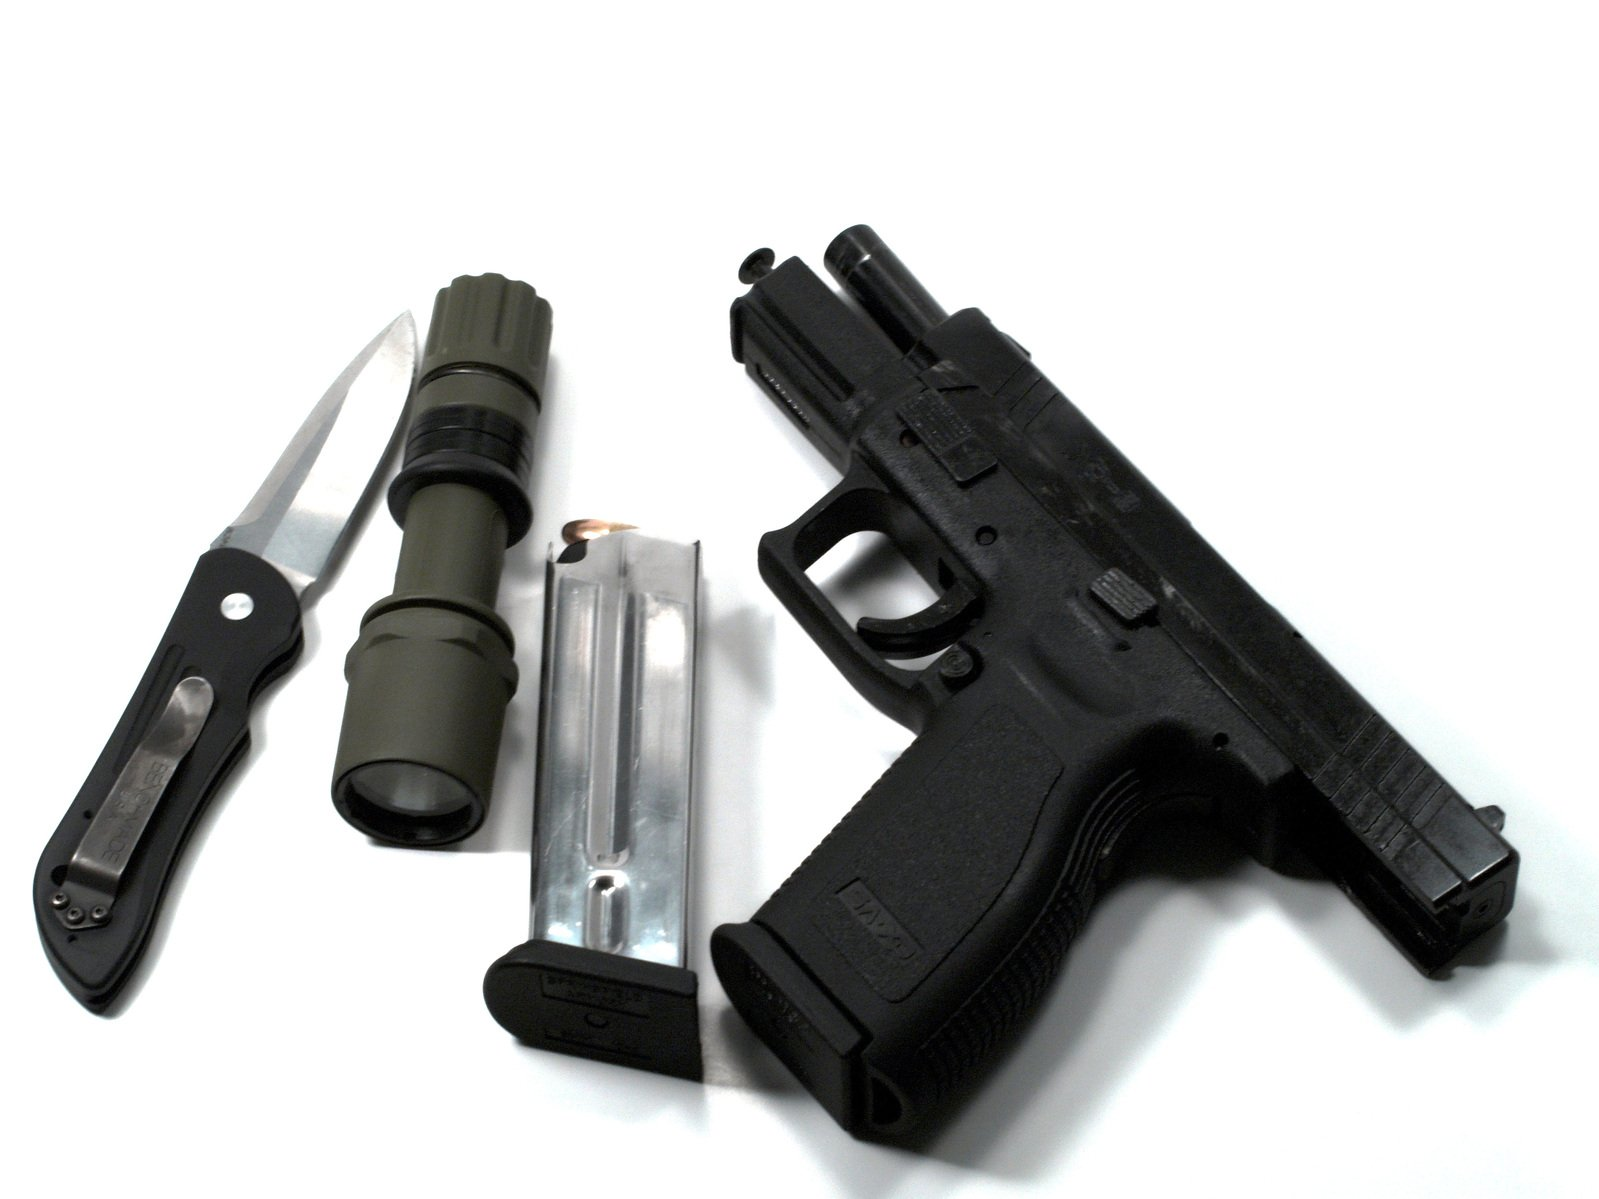gun: (704, 219, 1521, 1149)
knife: (26, 307, 424, 1020)
